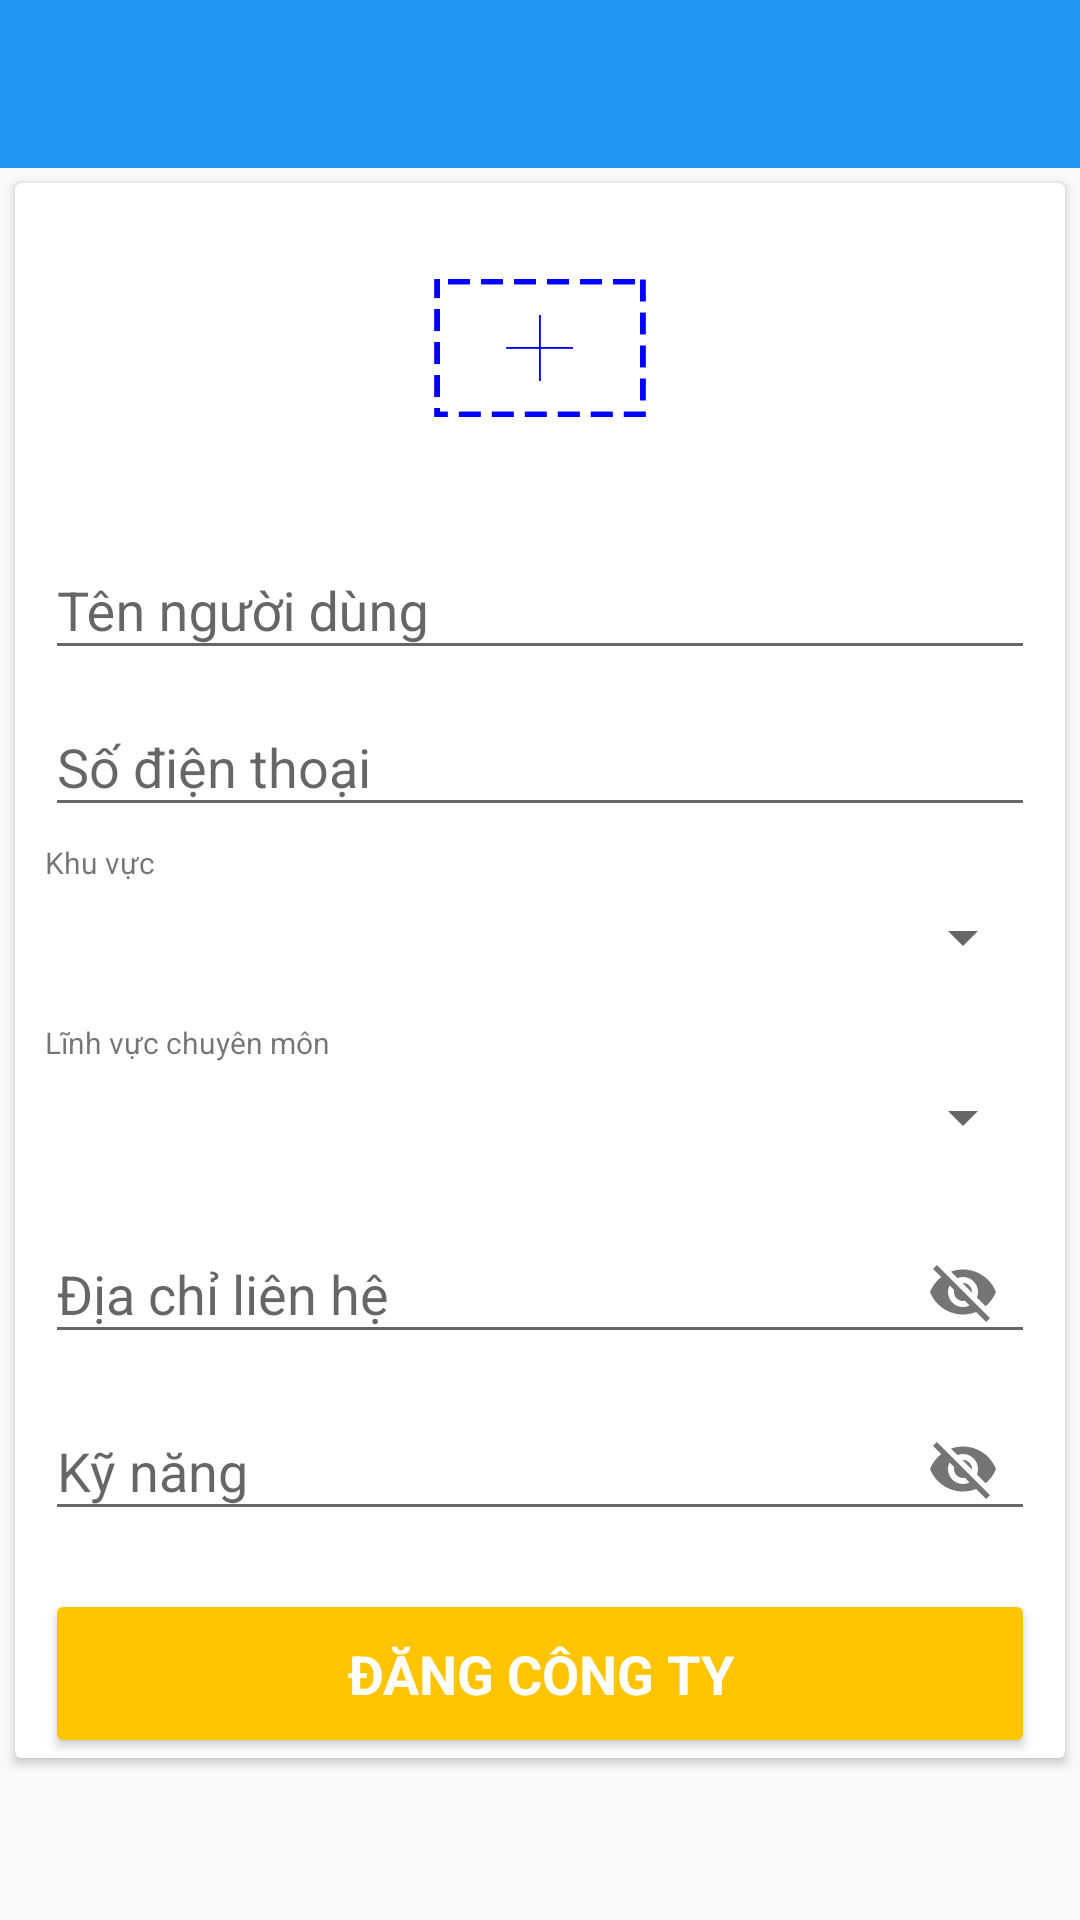

Icons on this 1080*1920 Android screen, each with its box as [left=x1, top=y1, right=x2, bottom=y2]:
add picture: [left=434, top=279, right=646, bottom=417]
